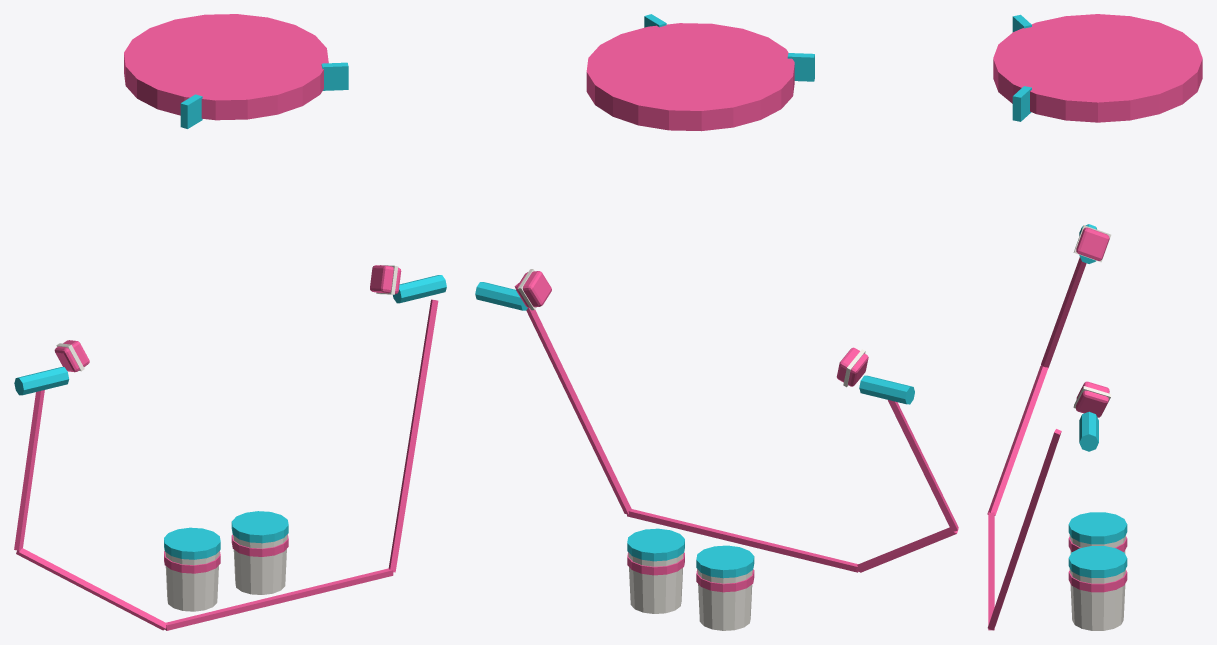
Rendered from Outfit_Jumping.fbx.
3 renders of one model, left to right at view 1: azimuth 30°, elevation 25°; view 2: azimuth 150°, elevation 25°; view 3: azimuth 270°, elevation 25°, orthographic.
Parts seen in each view (by area): view 1: Headband__Head, Rope__hand.R, SockL__shin.L, SockR__shin.R, WristL__forearm.L, WristR__forearm.R; view 2: Headband__Head, Rope__hand.R, SockR__shin.R, SockL__shin.L, WristL__forearm.L, WristR__forearm.R; view 3: Headband__Head, Rope__hand.R, SockL__shin.L, SockR__shin.R, WristL__forearm.L, WristR__forearm.R.
Boxes of the visible parts, bbox=[...] form: Headband__Head: bbox=[124, 14, 348, 128]; Rope__hand.R: bbox=[14, 275, 446, 630]; SockL__shin.L: bbox=[231, 511, 288, 594]; SockR__shin.R: bbox=[164, 527, 220, 611]; WristL__forearm.L: bbox=[370, 265, 401, 294]; WristR__forearm.R: bbox=[54, 340, 89, 372]; Headband__Head: bbox=[586, 14, 814, 131]; Rope__hand.R: bbox=[475, 282, 958, 572]; SockR__shin.R: bbox=[696, 545, 754, 630]; SockL__shin.L: bbox=[627, 528, 684, 613]; WristL__forearm.L: bbox=[516, 269, 551, 310]; WristR__forearm.R: bbox=[836, 347, 868, 387]; Headband__Head: bbox=[993, 14, 1202, 122]; Rope__hand.R: bbox=[987, 224, 1098, 630]; SockL__shin.L: bbox=[1068, 546, 1127, 630]; SockR__shin.R: bbox=[1068, 512, 1127, 553]; WristL__forearm.L: bbox=[1073, 381, 1111, 417]; WristR__forearm.R: bbox=[1073, 225, 1111, 262].
Bounding box in the file's own units: 1.19 × 1.36 × 0.4853.
